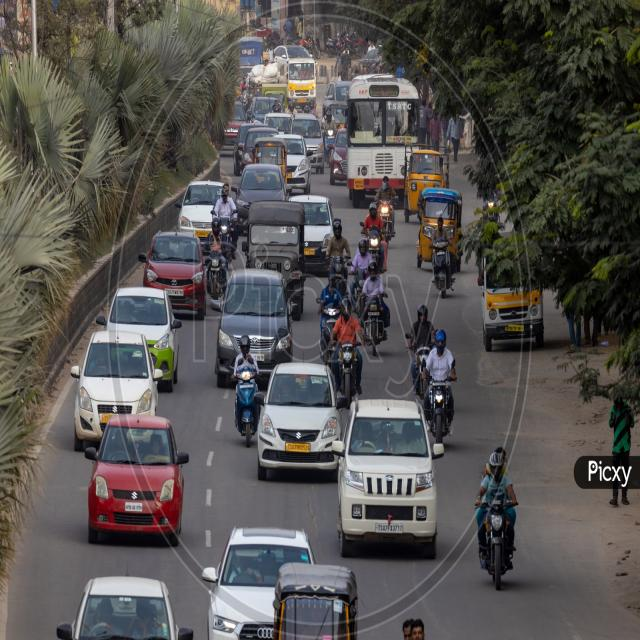Vehicles: (337, 395, 447, 562), (80, 416, 187, 554), (208, 529, 326, 640), (80, 322, 162, 464), (260, 360, 346, 492), (342, 83, 426, 202), (214, 266, 290, 394), (140, 222, 216, 326), (482, 236, 550, 352), (474, 503, 526, 592), (415, 188, 465, 275), (399, 142, 449, 210), (230, 370, 268, 450), (290, 110, 328, 175), (360, 294, 396, 362), (426, 377, 456, 452), (286, 57, 320, 110), (430, 234, 456, 302), (338, 346, 357, 402), (206, 252, 223, 300), (218, 218, 237, 259), (323, 302, 338, 351), (376, 202, 395, 240), (330, 255, 348, 295)
